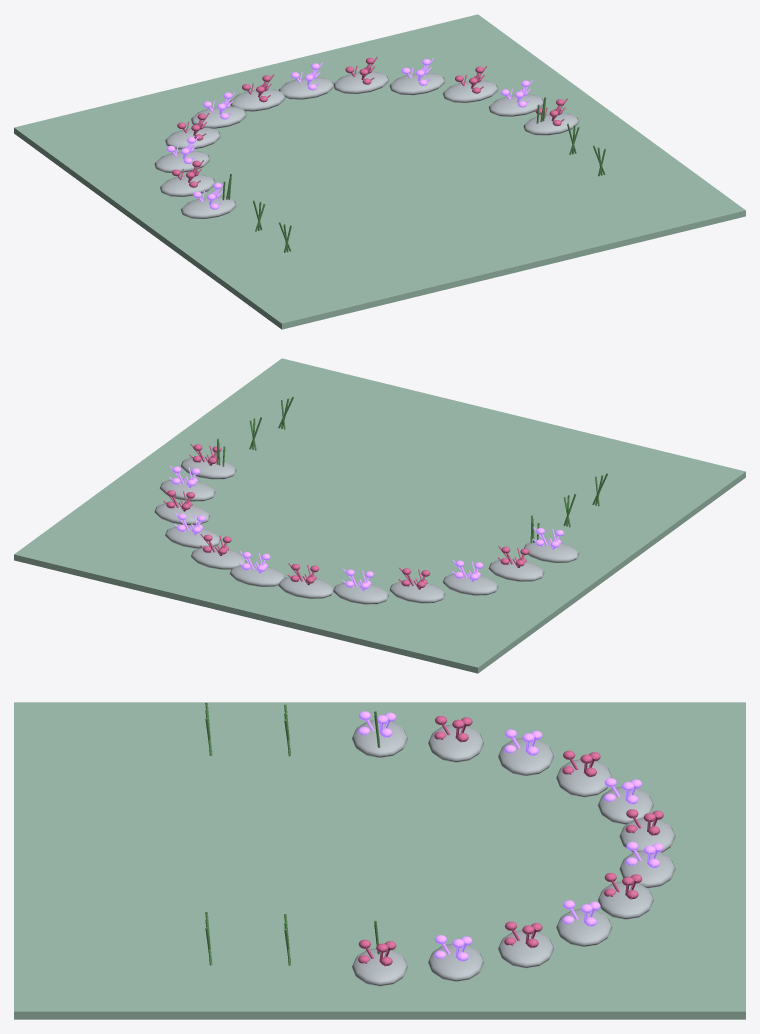
Rendered from journey_reef.glb.
The picture shows the model from 3 angles, top to bottom: view 1: azimuth 30°, elevation 25°; view 2: azimuth 150°, elevation 25°; view 3: azimuth 270°, elevation 25°; orthographic projection. The views are drawn at different scales.
Parts seen in each view (by area): view 1: Scenery_Journey Reef sand, Scenery_Journey Limestone.002, Scenery_Journey Violet life, Scenery_Journey Coral.001, Scenery_Journey Leaves.001; view 2: Scenery_Journey Reef sand, Scenery_Journey Limestone.002, Scenery_Journey Violet life, Scenery_Journey Coral.001, Scenery_Journey Leaves.001; view 3: Scenery_Journey Reef sand, Scenery_Journey Limestone.002, Scenery_Journey Violet life, Scenery_Journey Coral.001, Scenery_Journey Leaves.001.
Boxes of the visible parts, x1,y1,x2,y2 form: Scenery_Journey Reef sand: [14, 14, 745, 329]; Scenery_Journey Limestone.002: [154, 71, 579, 218]; Scenery_Journey Violet life: [166, 58, 532, 209]; Scenery_Journey Coral.001: [172, 57, 567, 187]; Scenery_Journey Leaves.001: [222, 97, 605, 252]; Scenery_Journey Reef sand: [14, 358, 745, 673]; Scenery_Journey Limestone.002: [154, 457, 579, 604]; Scenery_Journey Violet life: [169, 465, 563, 590]; Scenery_Journey Coral.001: [163, 443, 529, 589]; Scenery_Journey Leaves.001: [216, 396, 607, 543]; Scenery_Journey Reef sand: [14, 702, 745, 1019]; Scenery_Journey Limestone.002: [352, 720, 675, 986]; Scenery_Journey Violet life: [358, 711, 663, 961]; Scenery_Journey Coral.001: [358, 716, 663, 966]; Scenery_Journey Leaves.001: [205, 702, 380, 965].
Size of the model in its own units: 65 by 5.24 by 65.
